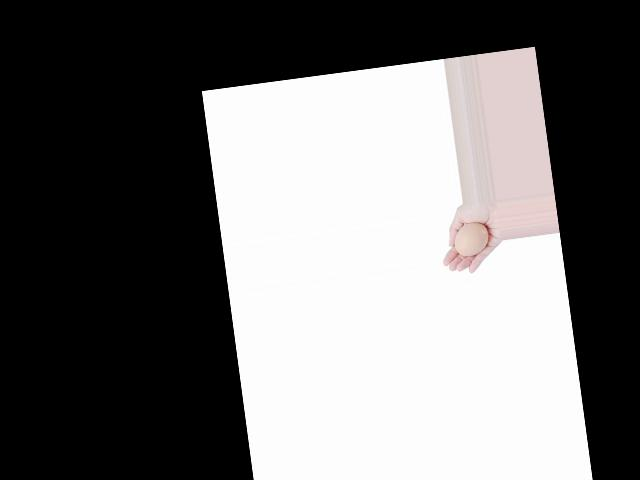egg: (452, 221, 490, 258)
